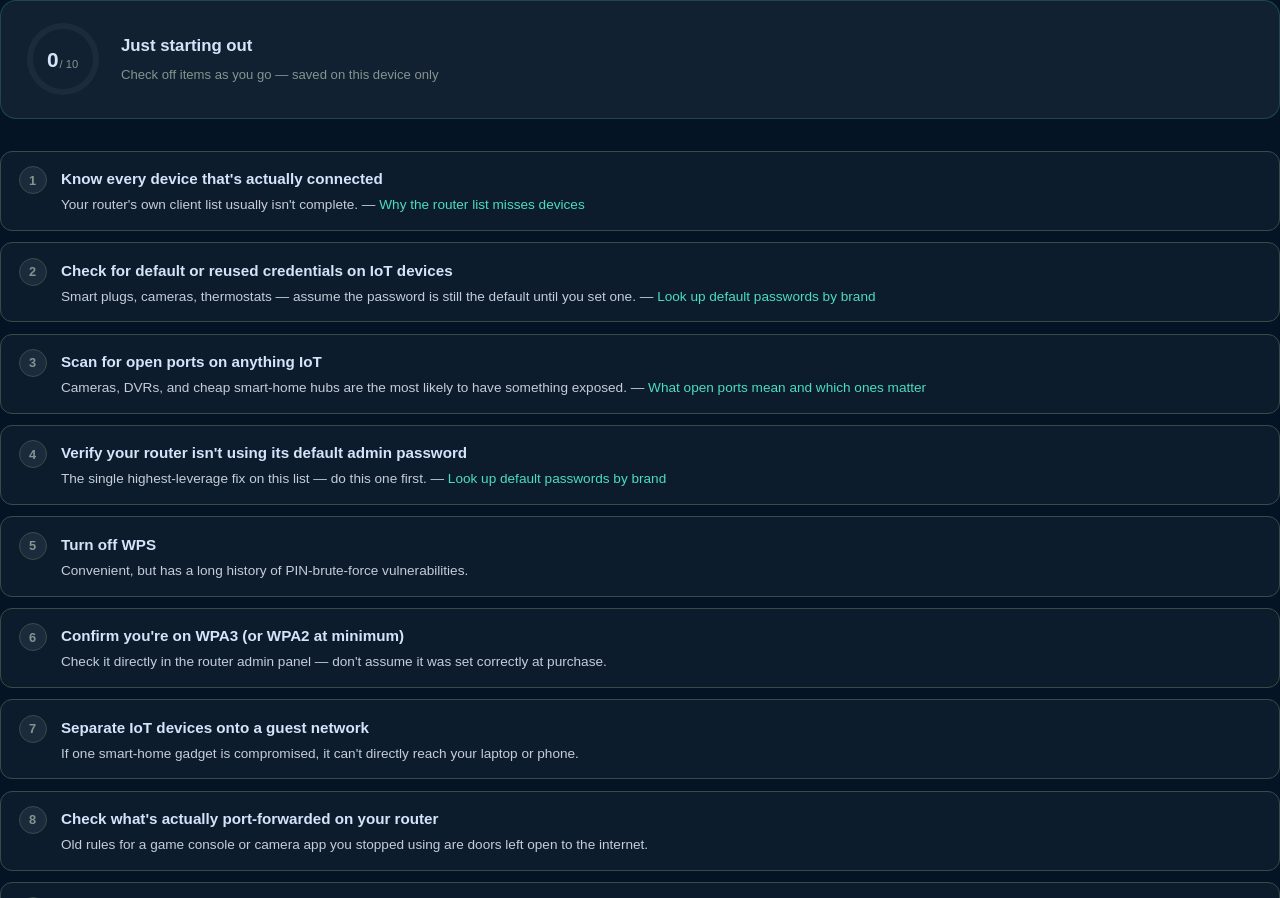
Scenario: Reset clears all checked items and removes itself
Click the checkbox named "Know every device that's actually connected" at [33, 180], box [19,166,47,194]
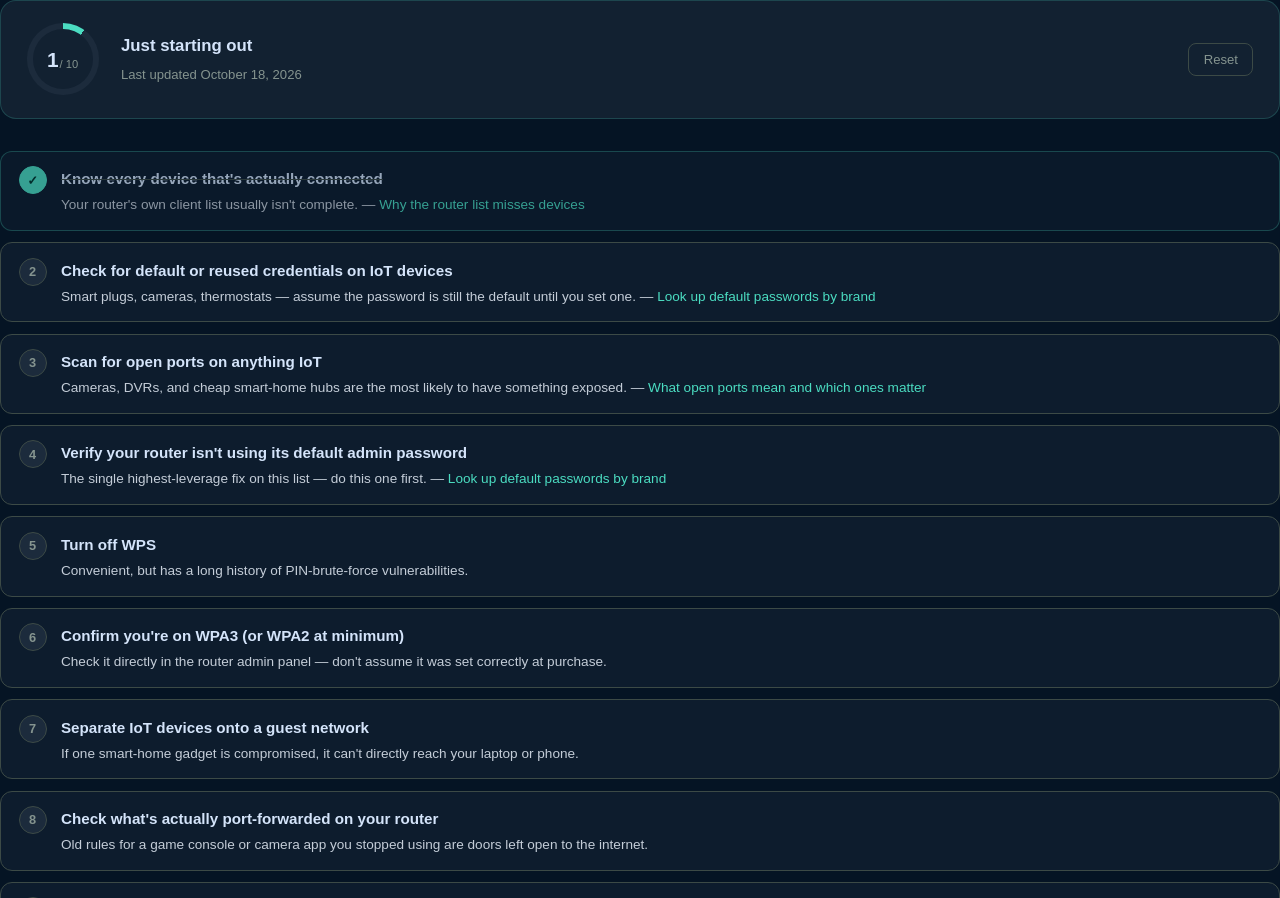
Click the button "Reset" at [1221, 59], box [1188,43,1253,76]
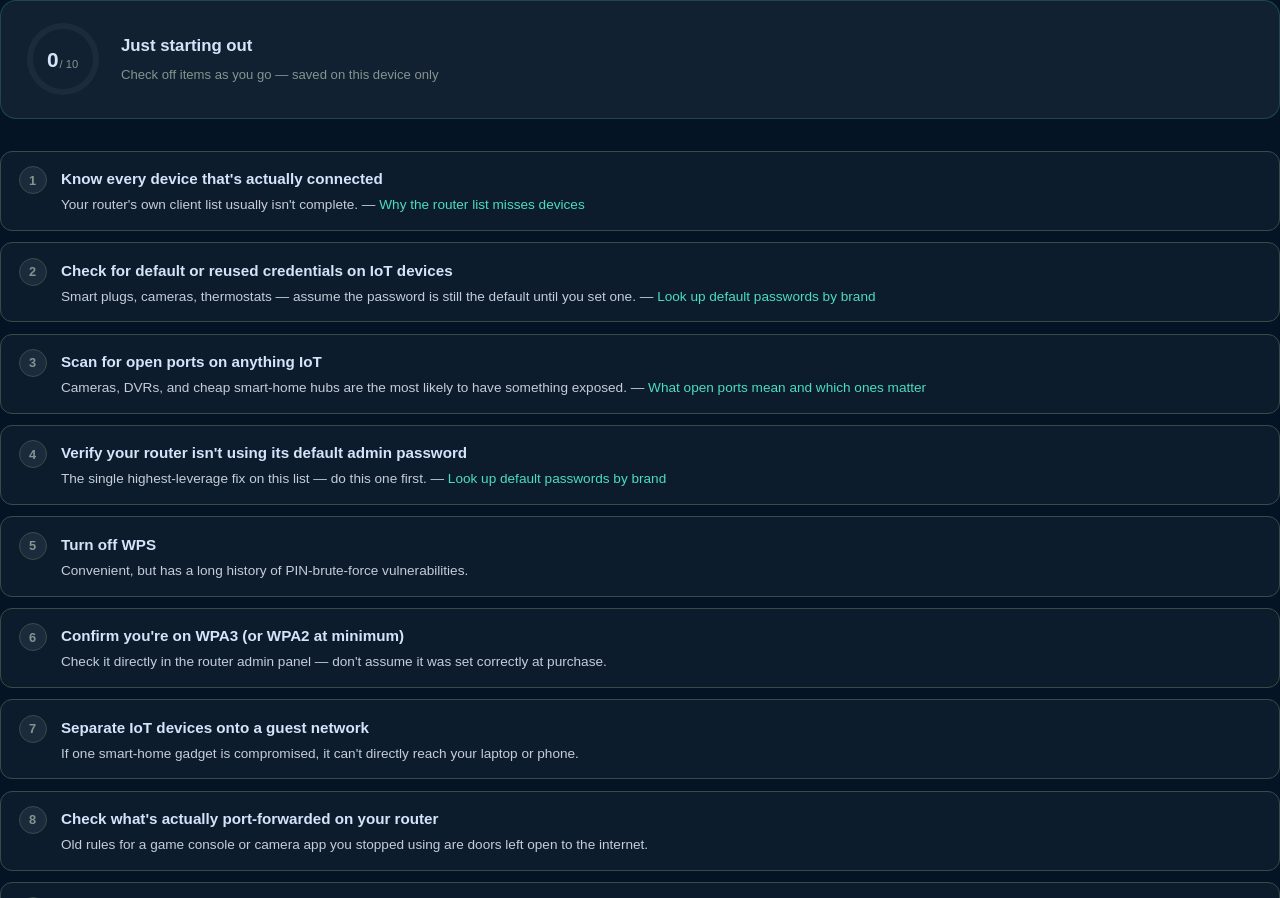
Expected: the button "Reset" is gone
